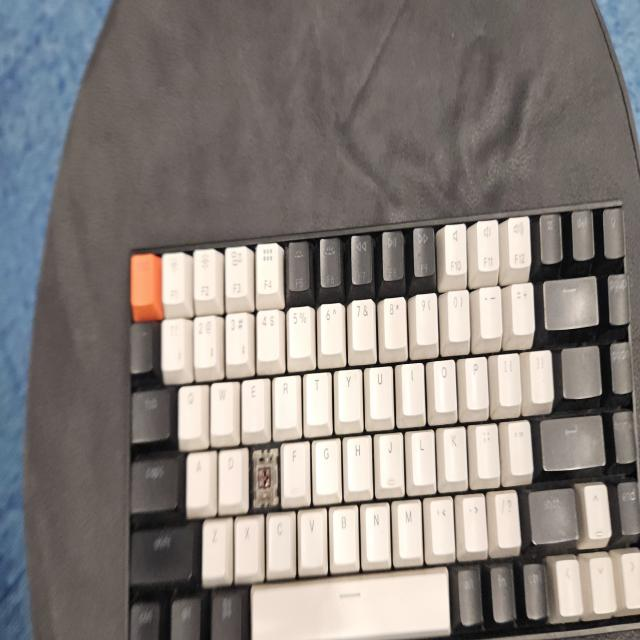C: (255, 455, 273, 506), (254, 454, 274, 494)
